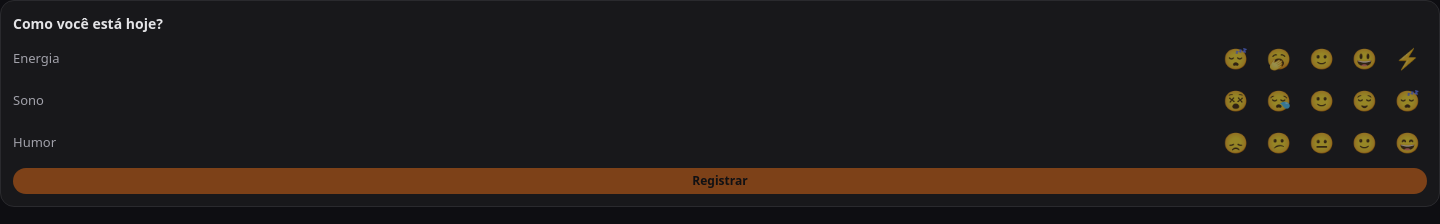
Test case: DailyCheckin › registrar salva, avisa e troca para a linha com a dica do dia
Expected: the text "Como você está hoje?" is shown, [13, 14, 163, 33]
Click the radio button named "Energia 5 de 5" at coordinates (1408, 59), box [1388, 42, 1427, 76]
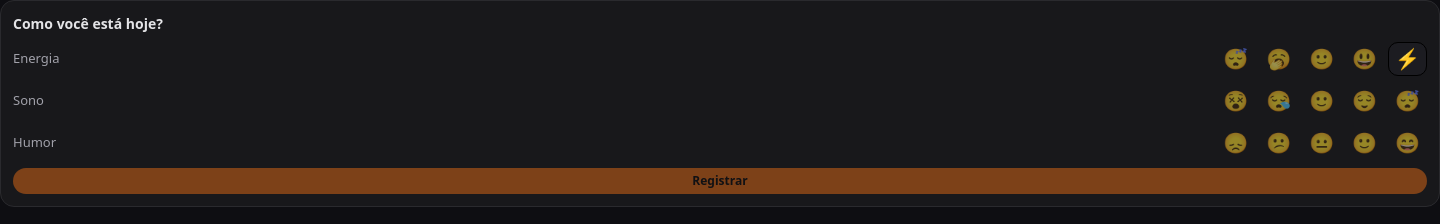
Click the radio button labelled "😌" at coordinates (1365, 101), box [1345, 84, 1384, 118]
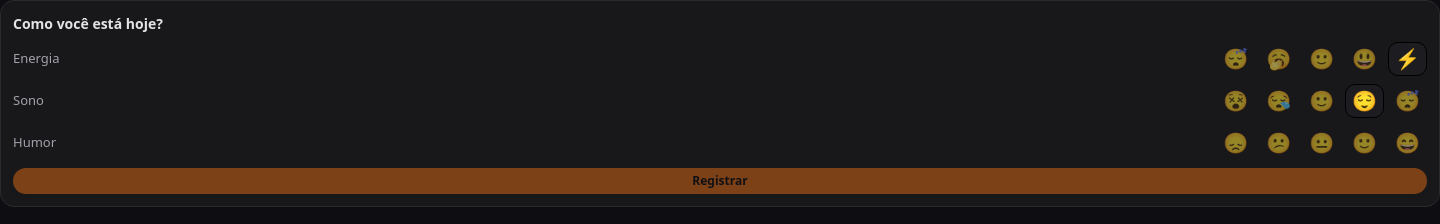
Click the radio button labelled "😄" at coordinates (1408, 143), box [1388, 126, 1427, 160]
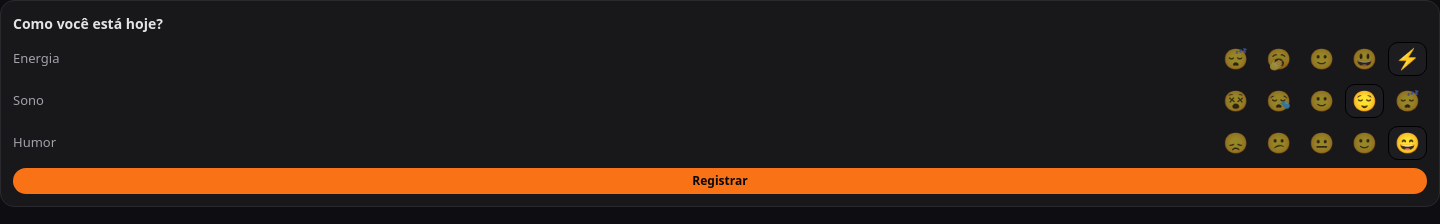
Click the button "Registrar" at coordinates (720, 181), box [13, 168, 1427, 194]
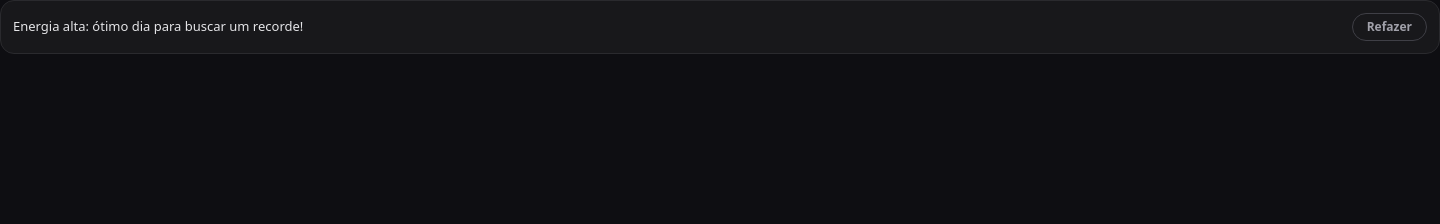
Now the message "Energia alta: ótimo dia para buscar um recorde! Refazer" is shown, box [0, 0, 1439, 54]
Now the button "Refazer" is shown, box [1352, 13, 1427, 41]
